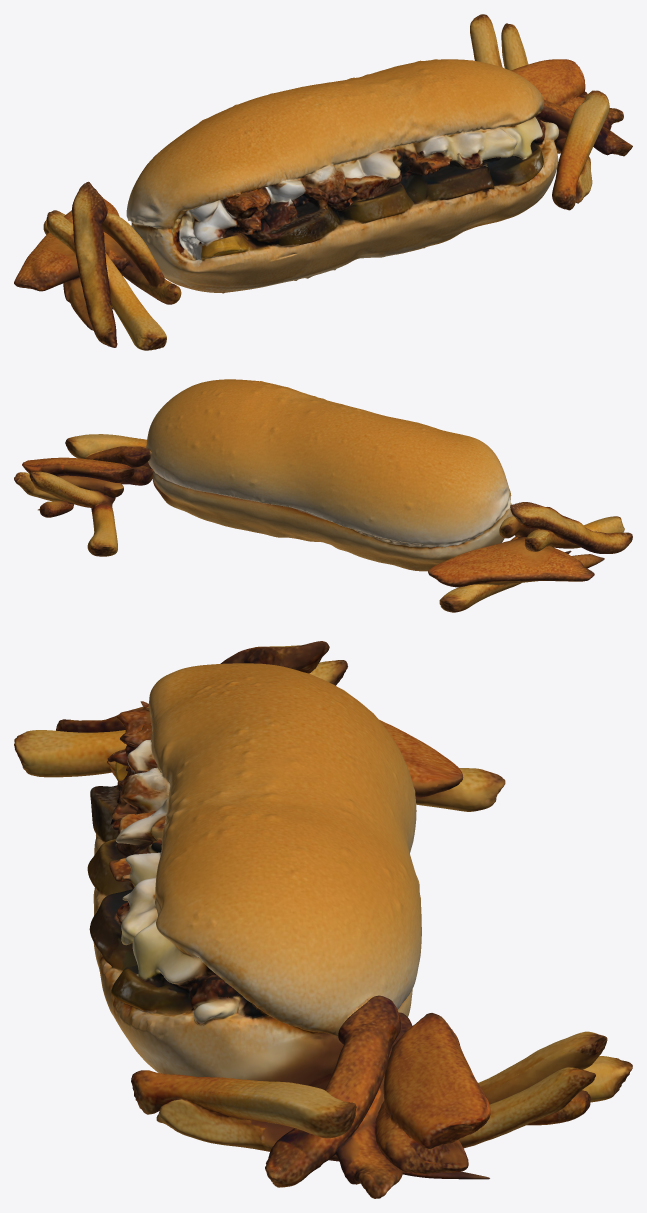
Rendered from rnb+3d+model.glb.
The picture shows the model from 3 angles, top to bottom: view 1: azimuth 30°, elevation 25°; view 2: azimuth 150°, elevation 25°; view 3: azimuth 270°, elevation 25°; orthographic projection. The views are drawn at different scales.
Parts seen in each view (by area): view 1: tripo_node_4231dd32-33bc-4436-b263-9768ba49c7c7; view 2: tripo_node_4231dd32-33bc-4436-b263-9768ba49c7c7; view 3: tripo_node_4231dd32-33bc-4436-b263-9768ba49c7c7.
Boxes of the visible parts, left/top/right/bottom form: tripo_node_4231dd32-33bc-4436-b263-9768ba49c7c7: left=14, top=14, right=632, bottom=350; tripo_node_4231dd32-33bc-4436-b263-9768ba49c7c7: left=14, top=379, right=632, bottom=612; tripo_node_4231dd32-33bc-4436-b263-9768ba49c7c7: left=14, top=641, right=632, bottom=1198.
Bounding box in the file's own units: 0.9803 × 0.2178 × 0.5202.
Materials: 1 (1 with a texture image).
